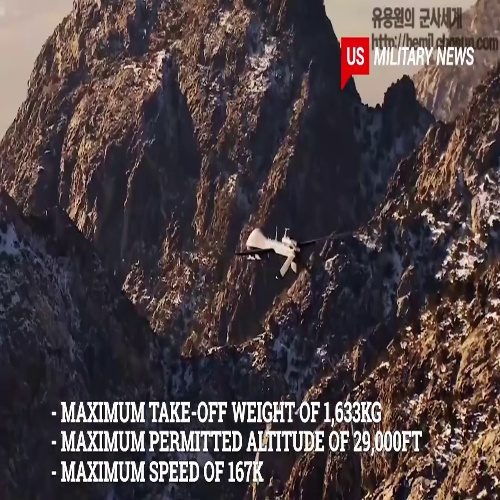uav: (241, 223, 312, 282)
